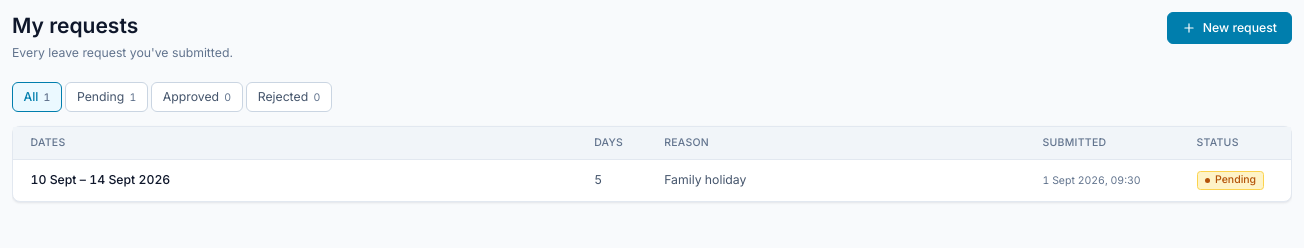
Test: MyRequestsPage › explains an empty filter without claiming there are no requests at all
Expected: the table is shown, [13, 127, 1291, 201]
Click the button "Rejected0" at (289, 97), box [246, 82, 332, 112]
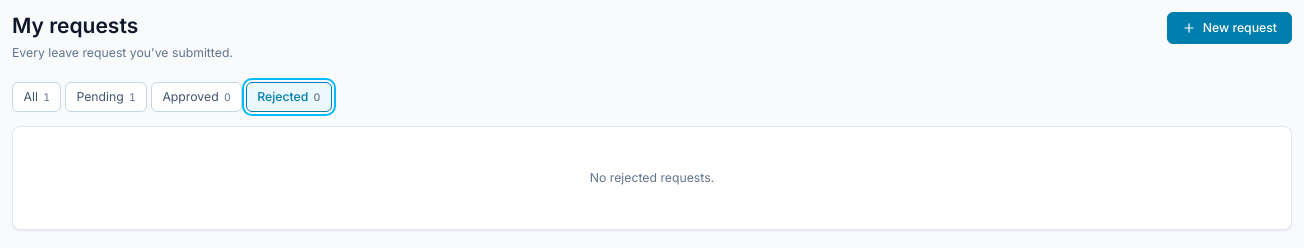
Expected: the text "No rejected requests." is shown, [590, 170, 714, 185]
